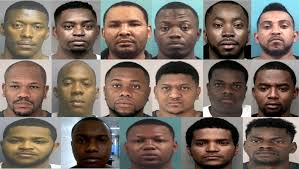middle_eastern_male: (101, 4, 151, 62), (105, 66, 151, 116), (258, 1, 295, 57)
